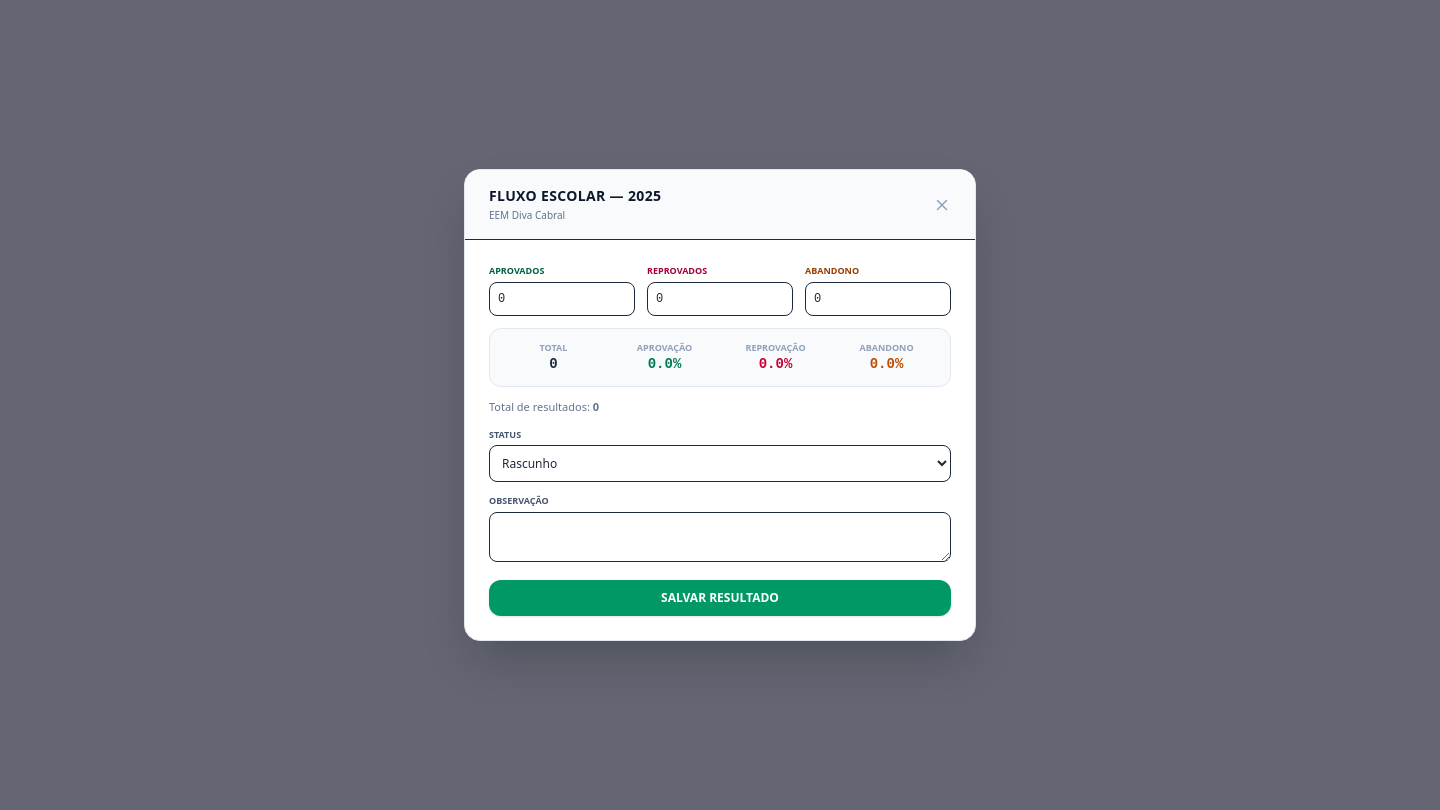
Scenario: SchoolFlowResultModal › percentuais mudam conforme os campos são preenchidos
Replace the text in the number field below "Aprovados" with "80" at [562, 299], box [489, 282, 635, 316]
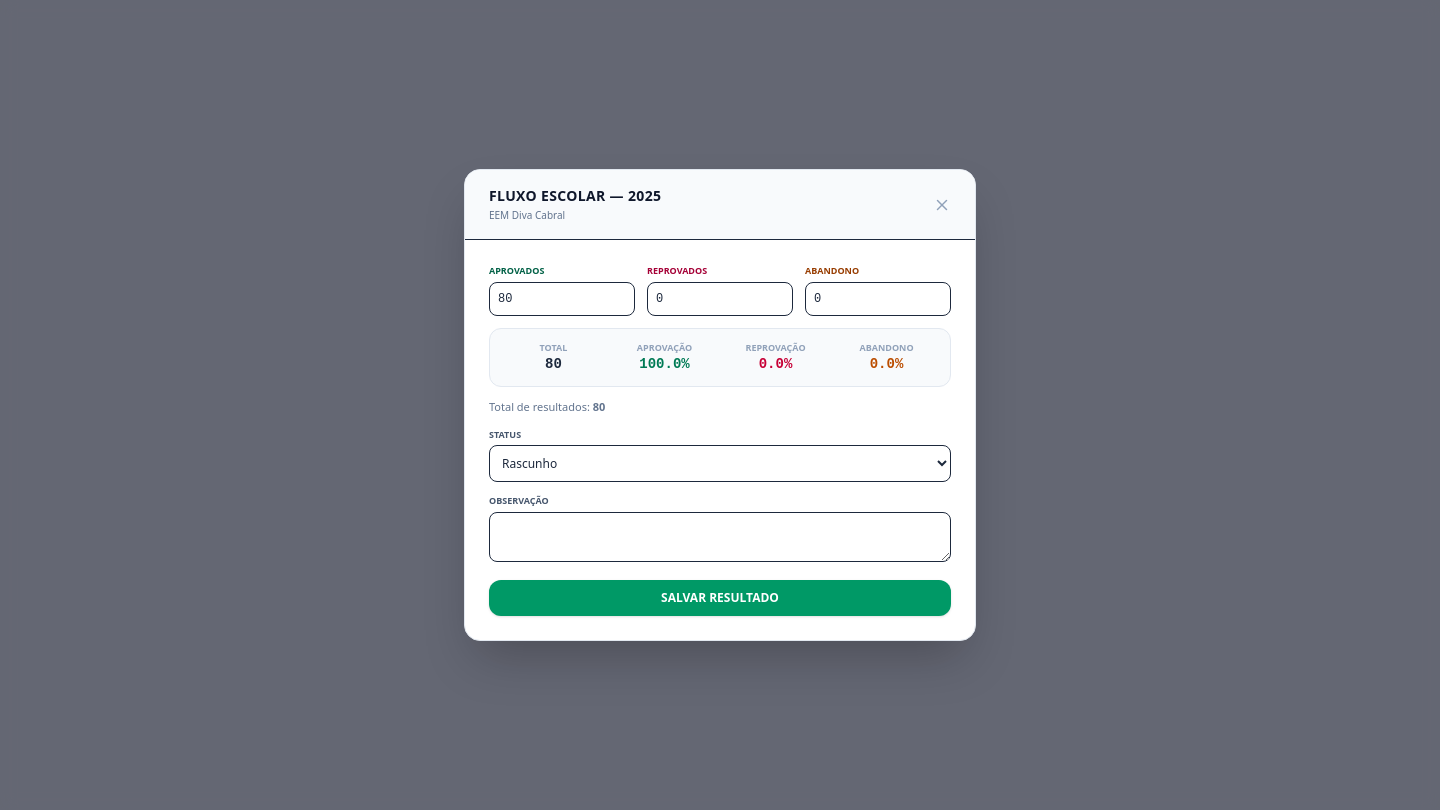
Replace the text in the number field below "Reprovados" with "15" at [720, 299], box [647, 282, 793, 316]
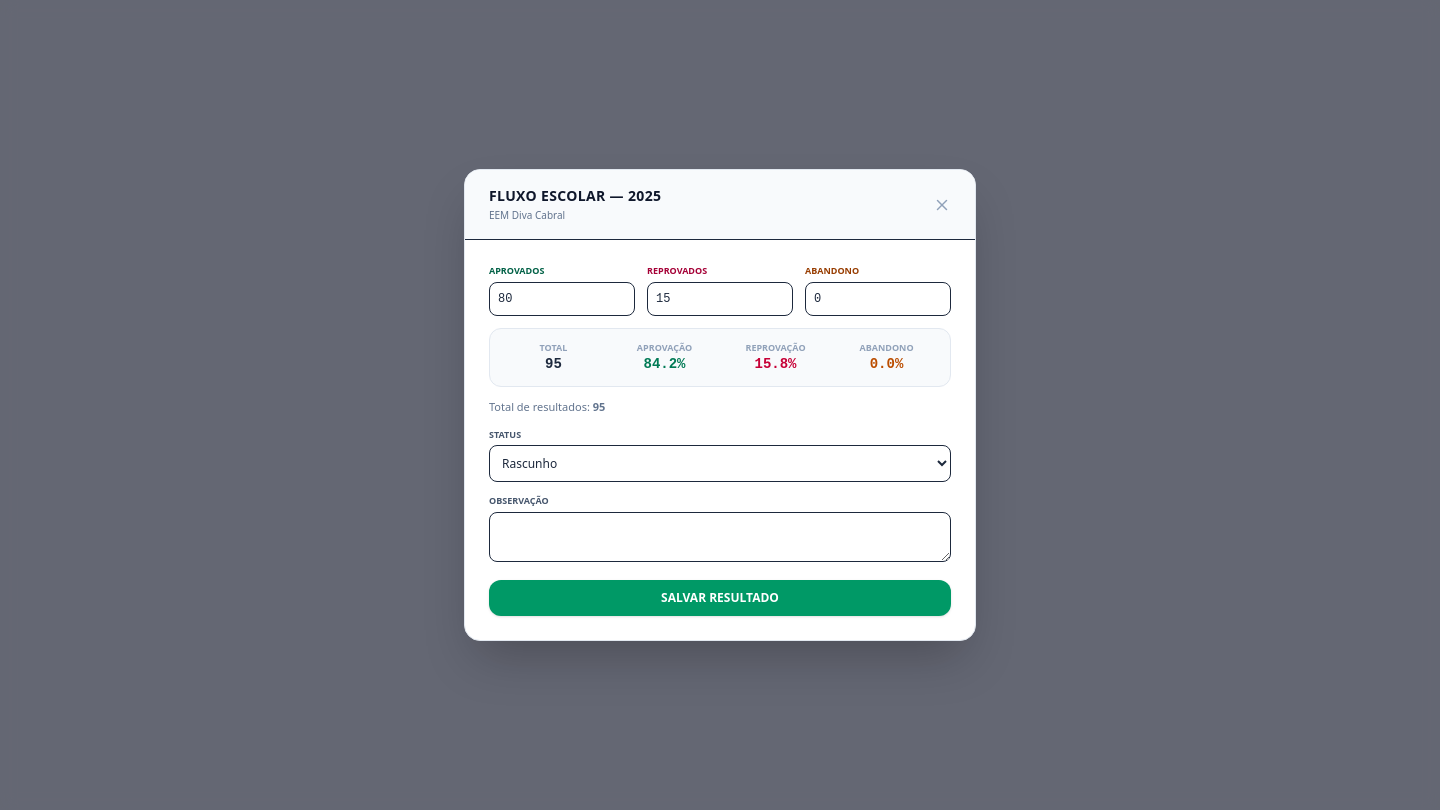
Replace the text in the 3rd number field with "5" at [878, 299], box [805, 282, 951, 316]
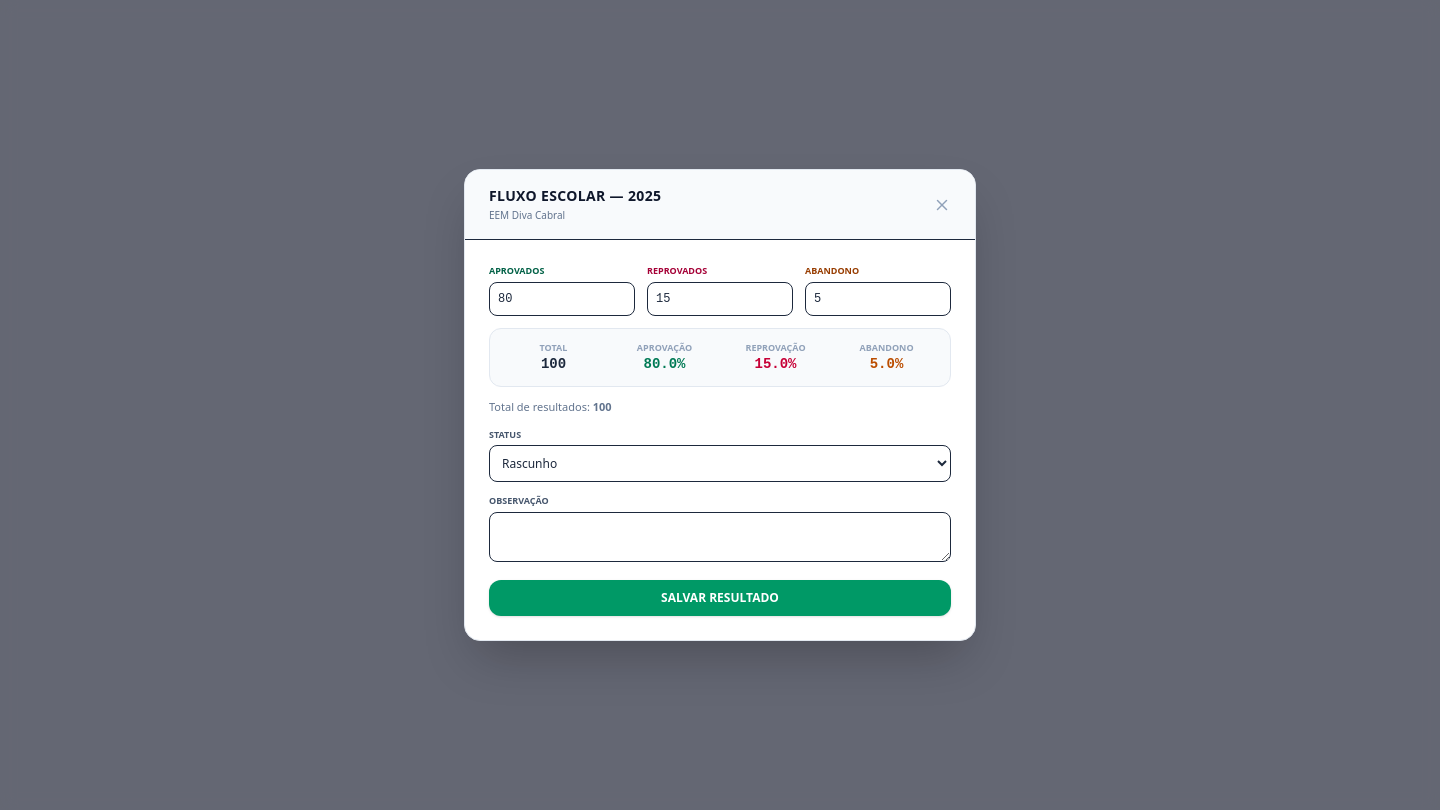
Now the text "80.0%" is shown, box [644, 356, 686, 372]
Now the text "15.0%" is shown, box [754, 356, 796, 372]
Now the text "5.0%" is shown, box [870, 356, 903, 372]
